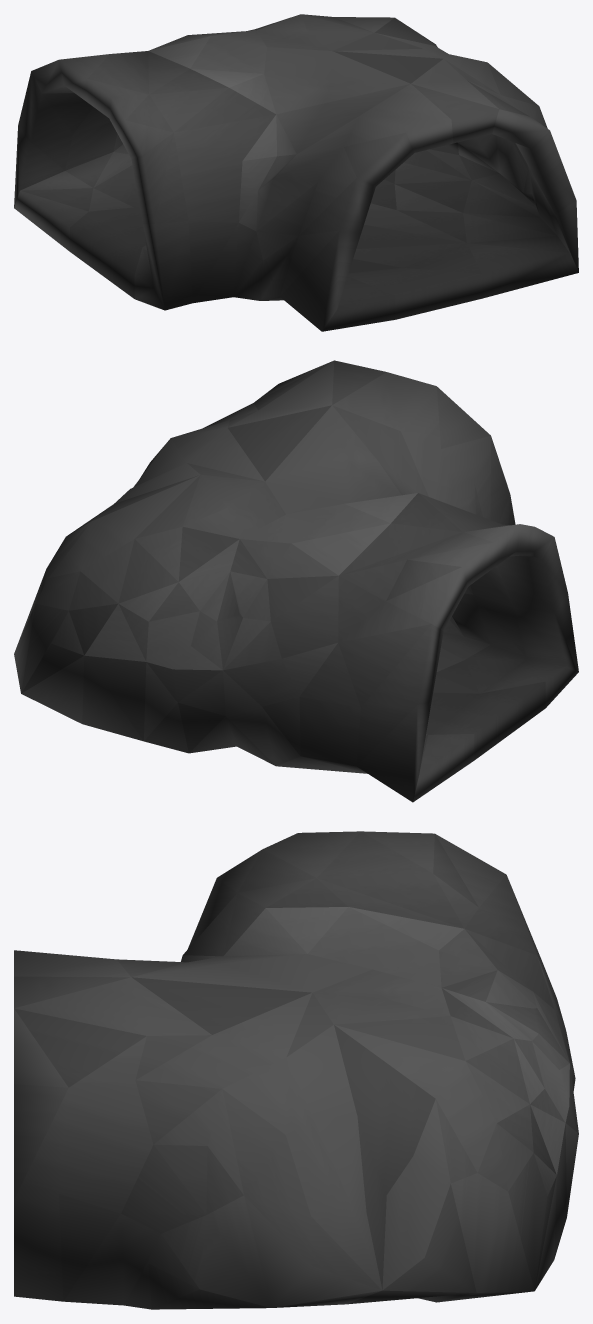
Rendered from GL-Cave-part-06.fbx.
The picture shows the model from 3 angles, top to bottom: view 1: azimuth 30°, elevation 25°; view 2: azimuth 150°, elevation 25°; view 3: azimuth 270°, elevation 25°; orthographic projection. The views are drawn at different scales.
Visible parts, largest first — view 1: GL-Cave-part-06; view 2: GL-Cave-part-06; view 3: GL-Cave-part-06.
Boxes of the visible parts, <box> form: GL-Cave-part-06: <box>14,14,578,331</box>; GL-Cave-part-06: <box>14,360,578,802</box>; GL-Cave-part-06: <box>14,831,578,1309</box>.
Size of the model in its own units: 5.18 by 2.32 by 4.86.
